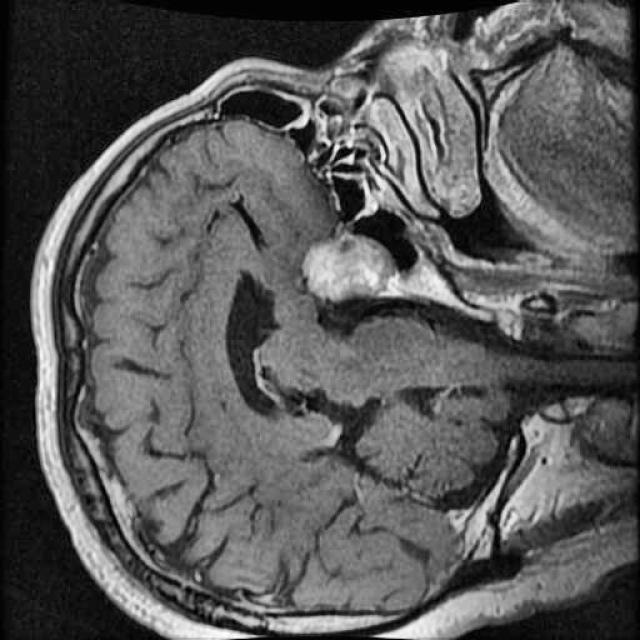Tumor: (294, 228, 396, 306)
